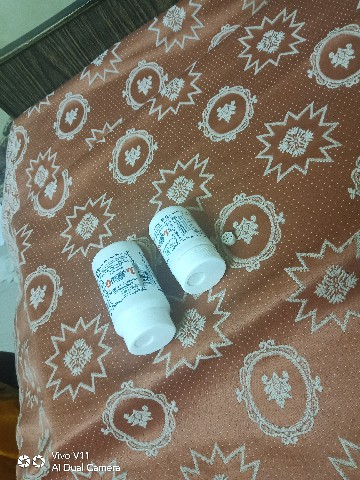lgasafoetidapowder large: (74, 229, 170, 372)
lgasafoetidapowder small: (148, 182, 244, 291)
